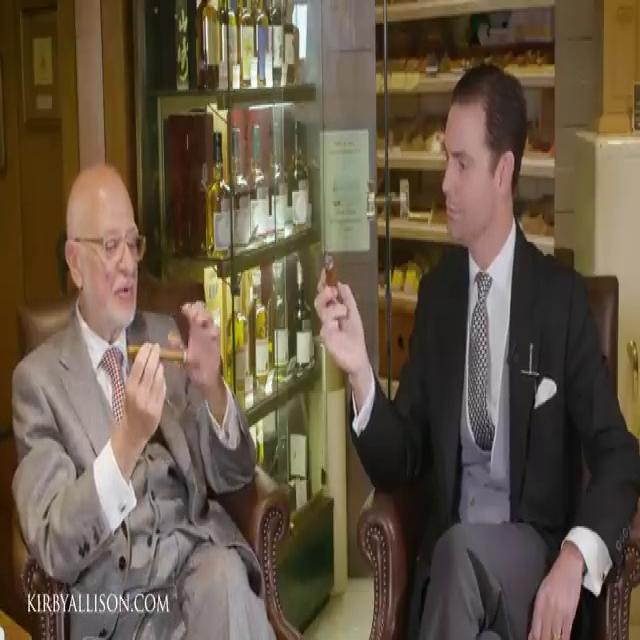Smooking: (316, 243, 356, 309), (124, 340, 201, 370)
